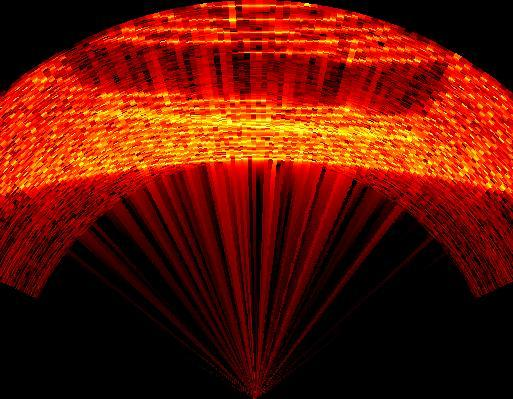pipe: (66, 38, 465, 146)
